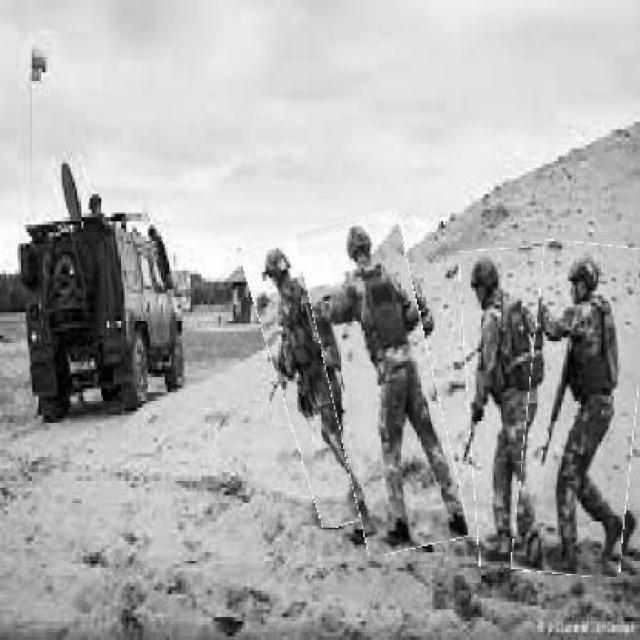Person: (314, 215, 454, 555), (520, 241, 640, 578), (466, 250, 566, 575), (261, 237, 364, 531)
